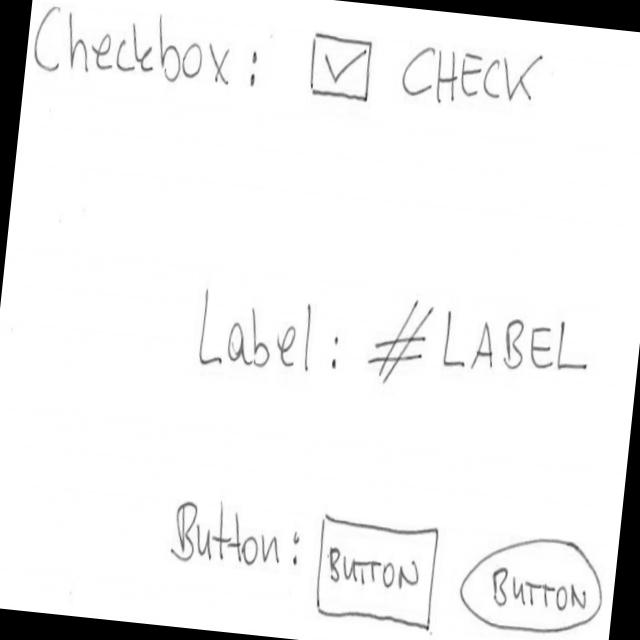button: (454, 526, 610, 640), (310, 509, 446, 636)
checkbox: (304, 24, 550, 124)
label: (363, 289, 598, 409)
